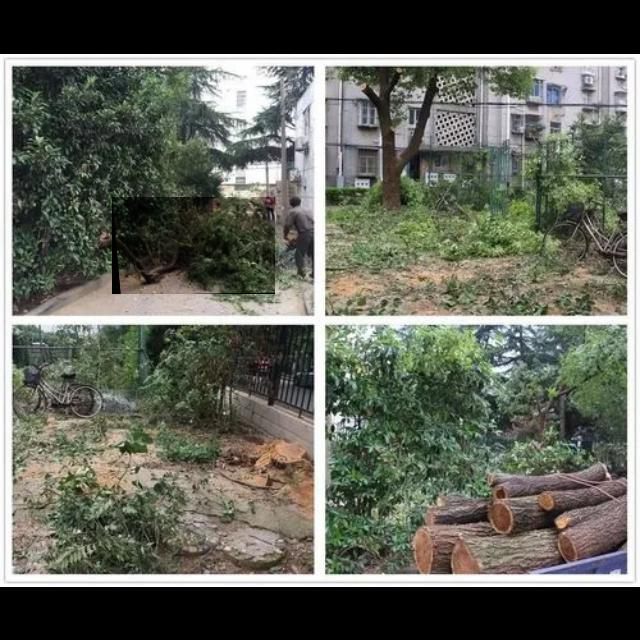fallen_tree: (112, 197, 276, 295)
